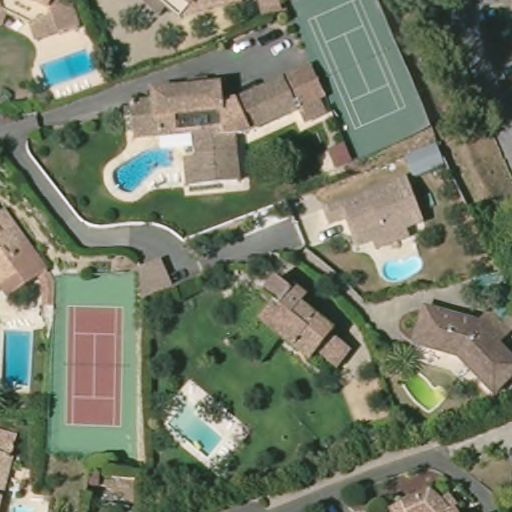pool: (166, 401, 229, 457), (109, 143, 177, 192), (1, 322, 39, 394), (35, 51, 103, 90), (396, 366, 447, 412), (378, 247, 429, 283)
